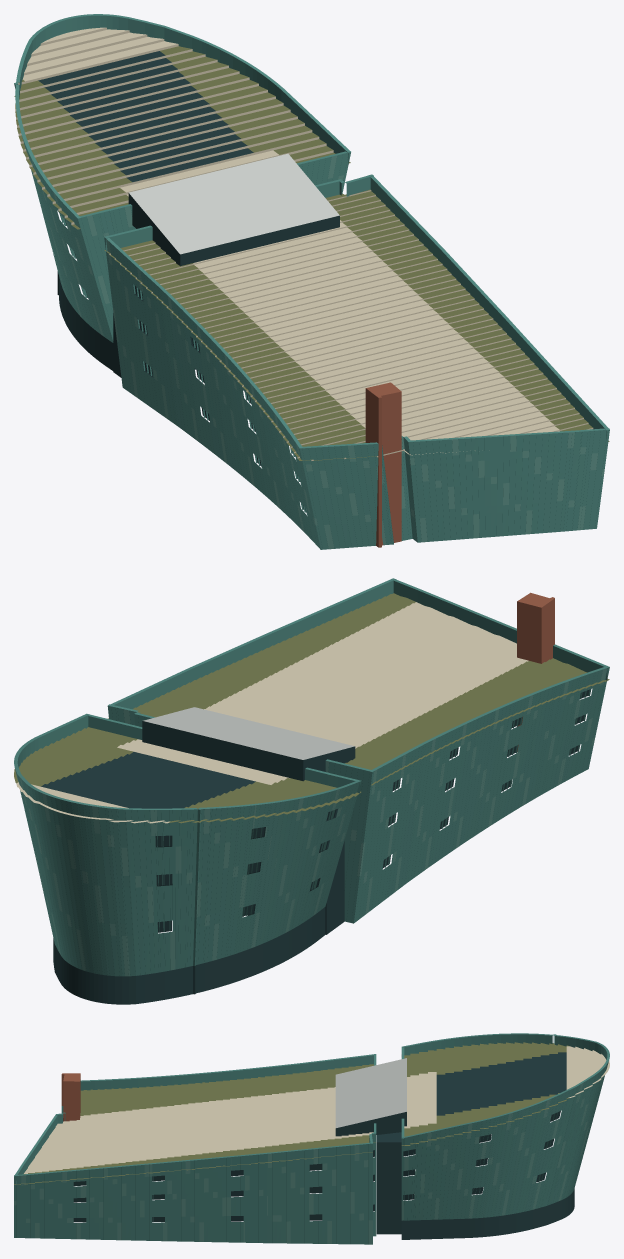
Rendered from nemo-science-museum-near.glb.
The picture shows the model from 3 angles, top to bottom: view 1: azimuth 30°, elevation 25°; view 2: azimuth 150°, elevation 25°; view 3: azimuth 270°, elevation 25°; orthographic projection. The views are drawn at different scales.
Parts seen in each view (by area): view 1: nemo-science-museum-0-copper, nemo-science-museum-0-terrace, nemo-science-museum-0-planting, nemo-science-museum-0-glass, nemo-science-museum-0-roof, nemo-science-museum-0-patina, nemo-science-museum-0-brick, nemo-science-museum-0-joints; view 2: nemo-science-museum-0-copper, nemo-science-museum-0-terrace, nemo-science-museum-0-glass, nemo-science-museum-0-planting, nemo-science-museum-0-patina, nemo-science-museum-0-roof, nemo-science-museum-0-joints, nemo-science-museum-0-brick; view 3: nemo-science-museum-0-copper, nemo-science-museum-0-terrace, nemo-science-museum-0-glass, nemo-science-museum-0-planting, nemo-science-museum-0-patina, nemo-science-museum-0-roof, nemo-science-museum-0-joints, nemo-science-museum-0-brick.
Boxes of the visible parts, x1,y1,x2,y2 form: nemo-science-museum-0-copper: (14, 14, 609, 549); nemo-science-museum-0-terrace: (15, 27, 593, 460); nemo-science-museum-0-planting: (14, 46, 609, 460); nemo-science-museum-0-glass: (38, 51, 339, 512); nemo-science-museum-0-roof: (129, 153, 339, 254); nemo-science-museum-0-patina: (31, 155, 604, 549); nemo-science-museum-0-brick: (365, 382, 401, 547); nemo-science-museum-0-joints: (39, 153, 609, 549); nemo-science-museum-0-copper: (14, 578, 609, 976); nemo-science-museum-0-terrace: (16, 602, 528, 823); nemo-science-museum-0-glass: (41, 689, 589, 1004); nemo-science-museum-0-planting: (14, 593, 609, 823); nemo-science-museum-0-patina: (19, 668, 606, 976); nemo-science-museum-0-roof: (143, 707, 354, 759); nemo-science-museum-0-joints: (28, 668, 607, 975); nemo-science-museum-0-brick: (517, 592, 554, 751); nemo-science-museum-0-copper: (14, 1033, 609, 1244); nemo-science-museum-0-terrace: (24, 1046, 609, 1173); nemo-science-museum-0-glass: (63, 1052, 574, 1239); nemo-science-museum-0-planting: (14, 1042, 569, 1184); nemo-science-museum-0-patina: (14, 1064, 606, 1244); nemo-science-museum-0-roof: (335, 1058, 406, 1127); nemo-science-museum-0-joints: (16, 1093, 578, 1244); nemo-science-museum-0-brick: (61, 1073, 80, 1121).
Size of the model in its own units: 44.73 by 32.56 by 117.
